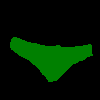mutande: (10, 36, 93, 82)
